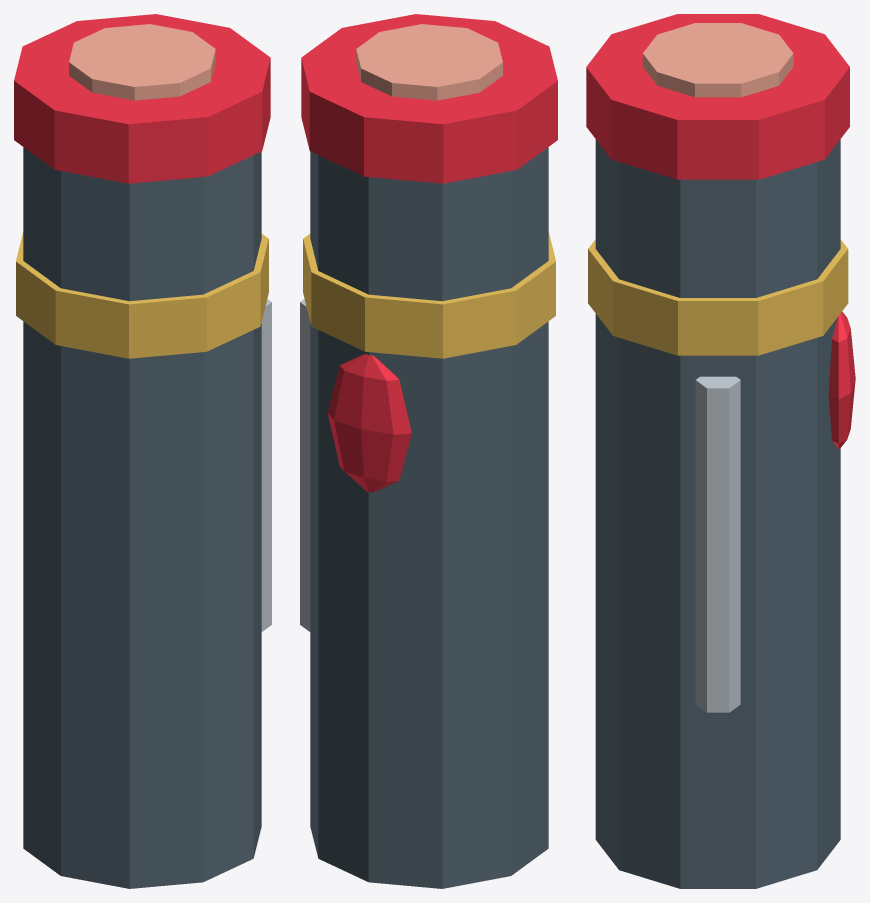
The model's file is lazer.glb.
3 renders of one model, left to right at view 1: azimuth 30°, elevation 25°; view 2: azimuth 150°, elevation 25°; view 3: azimuth 270°, elevation 25°, orthographic.
Parts seen in each view (by area): view 1: lazer; view 2: lazer; view 3: lazer.
Part boxes in pixels (x1=…): lazer: x1=14, y1=14, x2=271, y2=888; lazer: x1=300, y1=14, x2=557, y2=888; lazer: x1=586, y1=14, x2=855, y2=888.
Bounding box in the file's own units: 0.1583 × 0.51 × 0.1584.
